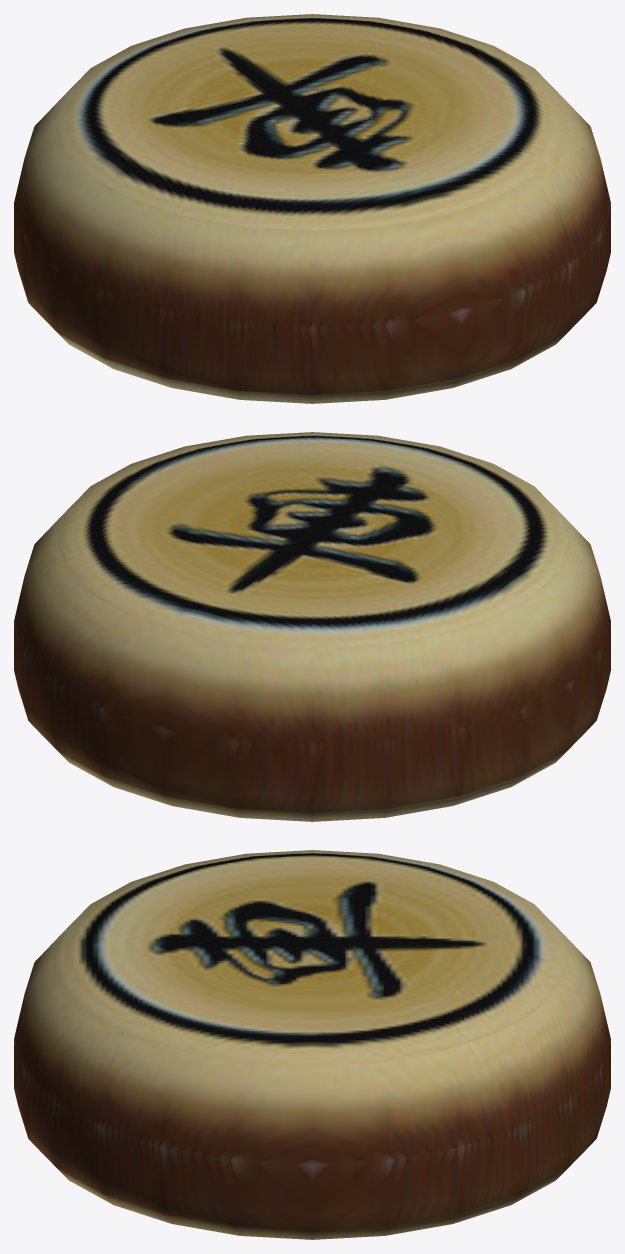
Rendered from Black_08_chariot_right.gltf.
The picture shows the model from 3 angles, top to bottom: view 1: azimuth 30°, elevation 25°; view 2: azimuth 150°, elevation 25°; view 3: azimuth 270°, elevation 25°; orthographic projection.
Visible parts, largest first — view 1: Black_08_chariot_right; view 2: Black_08_chariot_right; view 3: Black_08_chariot_right.
Part boxes in pixels (x1,y1,x2,y2): Black_08_chariot_right: [14, 14, 610, 403]; Black_08_chariot_right: [14, 432, 610, 821]; Black_08_chariot_right: [14, 850, 610, 1239].
Bounding box in the file's own units: 0.0468 × 0.0155 × 0.0468.
1 material, 1 textured.
